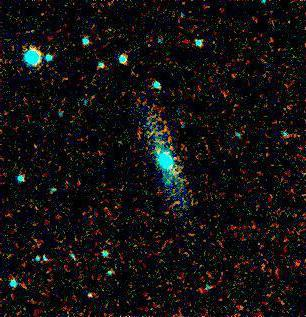star: (19, 43, 49, 73)
